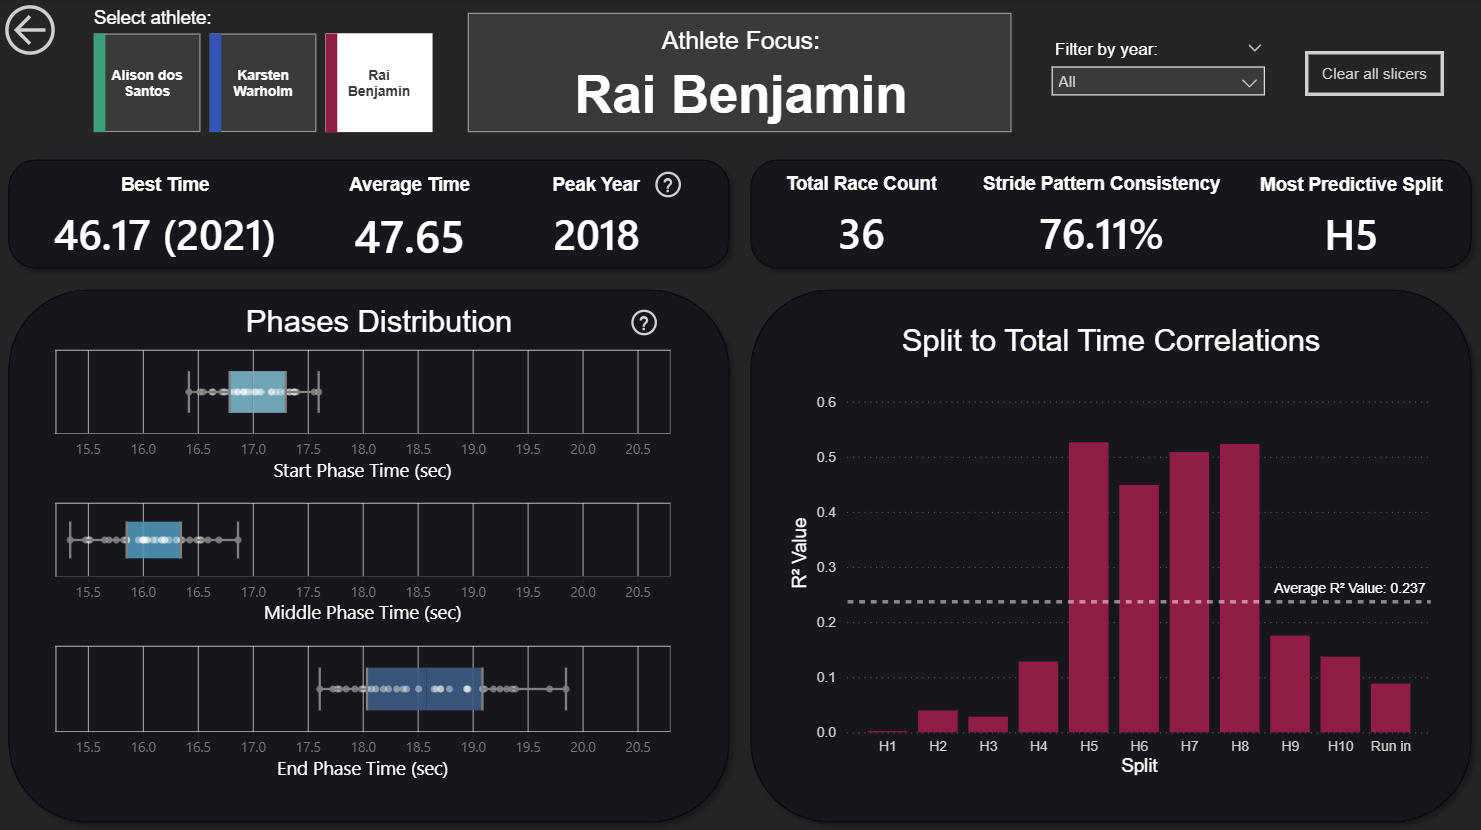

The page's visual inventory and layout, read from the dashboard file:
{"tool":"powerbi","page":{"name":"Athlete Focus","canvas":[1280,720],"ordinal":1},"visuals":[{"type":"actionButton","box":[0,0,112.1,55.2],"z":0},{"type":"cardVisual","fields":{"Data":["Min(athlete_full.Athlete Full)"]},"box":[400.2,7.8,479.6,113.9],"z":1000},{"type":"slicer","fields":{"Values":["years_table.Year"]},"box":[898.8,31.1,203.6,66.4],"z":2000},{"type":"shape","box":[0,242.4,640,477.8],"z":3000},{"type":"shape","box":[640,242.4,640,477.8],"z":4000},{"type":"shape","box":[0,130.2,640,112.1],"z":5000},{"type":"shape","box":[640,130.2,640,112.1],"z":6000},{"type":"BoxandWhiskerByMAQ1823AD39DT234AB532063E128AX","fields":{"measure":["Avg(df_splits_and_strides.Start_Phase_Total)"],"category":["df_splits_and_strides.Time"]},"box":[44,295.8,552,132],"z":7000},{"type":"cardVisual","fields":{"Data":["_Measures.Best Time"]},"box":[24.2,136.3,240.6,100.9],"z":8000},{"type":"BoxandWhiskerByMAQ1823AD39DT234AB532063E128AX","fields":{"measure":["Avg(df_splits_and_strides.End_Phase_Total)"],"category":["df_splits_and_strides.Time"]},"box":[44,551.2,552,133.7],"z":9000},{"type":"BoxandWhiskerByMAQ1823AD39DT234AB532063E128AX","fields":{"measure":["Avg(df_splits_and_strides.Mid_Phase_Total)"],"category":["df_splits_and_strides.Time"]},"box":[44,427.8,552,123.3],"z":10000},{"type":"textbox","box":[105.2,258.8,446.8,43.1],"z":11000},{"type":"clusteredColumnChart","title":"Split to Total Time Correlations","fields":{"Y":["Avg(r_squared.R2 Value)"],"Series":["r_squared.Athlete"],"Category":["r_squared.Split"]},"box":[678.8,280.3,562.4,395],"z":12000},{"type":"cardVisual","fields":{"Data":["_Measures.Most Predictive Split"]},"box":[1071.3,136.3,192.3,100.9],"z":13000},{"type":"cardVisual","fields":{"Data":["_Measures.Peak Year"]},"box":[420.1,136.3,192.3,100.9],"z":14000},{"type":"cardVisual","fields":{"Data":["_Measures.Average Time"]},"box":[279.5,136.3,151.8,100.9],"z":15000},{"type":"cardVisual","fields":{"Data":["Avg(stride_percents.Stride Consistency)"]},"box":[825.4,135.4,253.6,100.9],"z":16000},{"type":"actionButton","box":[1127.3,45.7,119.9,38.8],"z":17000},{"type":"actionButton","box":[537.4,263.9,40.5,31.9],"z":18000},{"type":"cardVisual","fields":{"Data":["CountNonNull(df_splits.Time)"]},"box":[648.6,135.4,192.3,100.9],"z":19000},{"type":"advancedSlicerVisual","fields":{"Values":["athlete_full.Athlete Full"]},"box":[77.6,8.6,304.5,113],"z":20000},{"type":"actionButton","box":[558.1,144.9,40.5,31.9],"z":20001}]}

Visuals, with their boxes in screenshot pixels (x1, y1, x2, y2), scaled from the page's 1280x720 canvas onto the 1481x830 screenshot:
actionButton: x1=0 y1=0 x2=130 y2=64
cardVisual - Min(athlete_full.Athlete Full): x1=463 y1=9 x2=1018 y2=140
slicer - years_table.Year: x1=1040 y1=36 x2=1276 y2=112
shape: x1=0 y1=279 x2=740 y2=829
shape: x1=740 y1=279 x2=1480 y2=829
shape: x1=0 y1=150 x2=740 y2=279
shape: x1=740 y1=150 x2=1480 y2=279
BoxandWhiskerByMAQ1823AD39DT234AB532063E128AX - Avg(df_splits_and_strides.Start_Phase_Total) x df_splits_and_strides.Time: x1=51 y1=341 x2=690 y2=493
cardVisual - _Measures.Best Time: x1=28 y1=157 x2=306 y2=273
BoxandWhiskerByMAQ1823AD39DT234AB532063E128AX - Avg(df_splits_and_strides.End_Phase_Total) x df_splits_and_strides.Time: x1=51 y1=635 x2=690 y2=790
BoxandWhiskerByMAQ1823AD39DT234AB532063E128AX - Avg(df_splits_and_strides.Mid_Phase_Total) x df_splits_and_strides.Time: x1=51 y1=493 x2=690 y2=635
textbox: x1=122 y1=298 x2=639 y2=348
"Split to Total Time Correlations" clusteredColumnChart: x1=785 y1=323 x2=1436 y2=778
cardVisual - _Measures.Most Predictive Split: x1=1240 y1=157 x2=1462 y2=273
cardVisual - _Measures.Peak Year: x1=486 y1=157 x2=709 y2=273
cardVisual - _Measures.Average Time: x1=323 y1=157 x2=499 y2=273
cardVisual - Avg(stride_percents.Stride Consistency): x1=955 y1=156 x2=1248 y2=272
actionButton: x1=1304 y1=53 x2=1443 y2=97
actionButton: x1=622 y1=304 x2=669 y2=341
cardVisual - CountNonNull(df_splits.Time): x1=750 y1=156 x2=973 y2=272
advancedSlicerVisual - athlete_full.Athlete Full: x1=90 y1=10 x2=442 y2=140
actionButton: x1=646 y1=167 x2=693 y2=204
